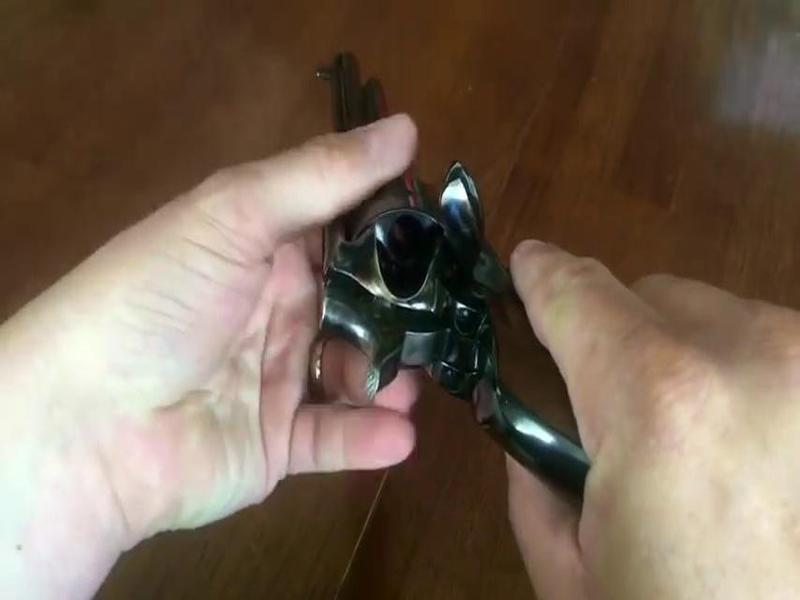Revolver: (287, 47, 564, 465)
